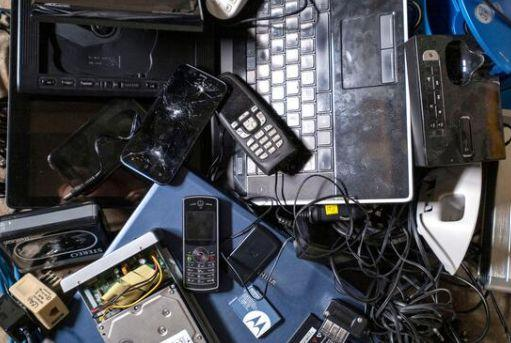electronic: (229, 0, 402, 208), (406, 35, 505, 281), (15, 3, 204, 96), (68, 231, 224, 342), (120, 64, 228, 185), (214, 71, 300, 174), (180, 193, 222, 292), (282, 301, 371, 342), (9, 272, 71, 330)
